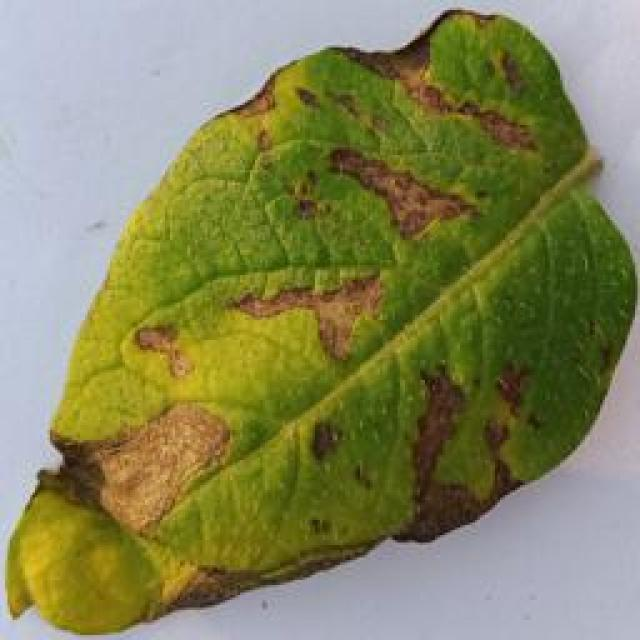Potato_Late_Blight: (5, 10, 635, 640), (0, 5, 185, 190)
